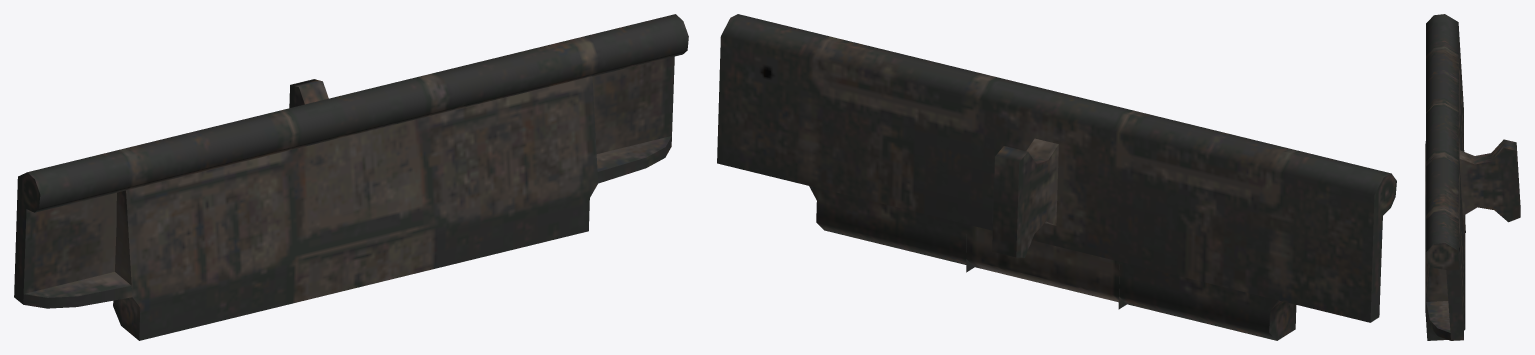
3 views of the same model, side by side, from view 1: azimuth 30°, elevation 25°; view 2: azimuth 150°, elevation 25°; view 3: azimuth 270°, elevation 25° (orthographic). The views are drawn at different scales.
Visible parts, largest first — view 1: set_0_group_0; view 2: set_0_group_0; view 3: set_0_group_0.
Boxes of the visible parts, left/top/right/bottom form: set_0_group_0: left=14, top=14, right=688, bottom=340; set_0_group_0: left=717, top=14, right=1396, bottom=340; set_0_group_0: left=1425, top=14, right=1520, bottom=340.
Size of the model in its own units: 0.6503 by 0.1764 by 0.1147.
Materials: 1 (1 with a texture image).
